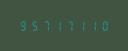five: (29, 20, 40, 31)
nine: (17, 20, 28, 31)
one: (53, 20, 64, 31), (77, 20, 88, 31), (89, 20, 100, 31)
seven: (41, 20, 52, 31), (65, 20, 76, 31)
zero: (101, 20, 112, 31)
